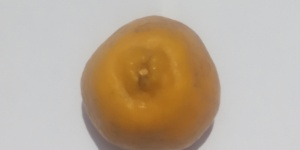BAD: (76, 14, 223, 150)
